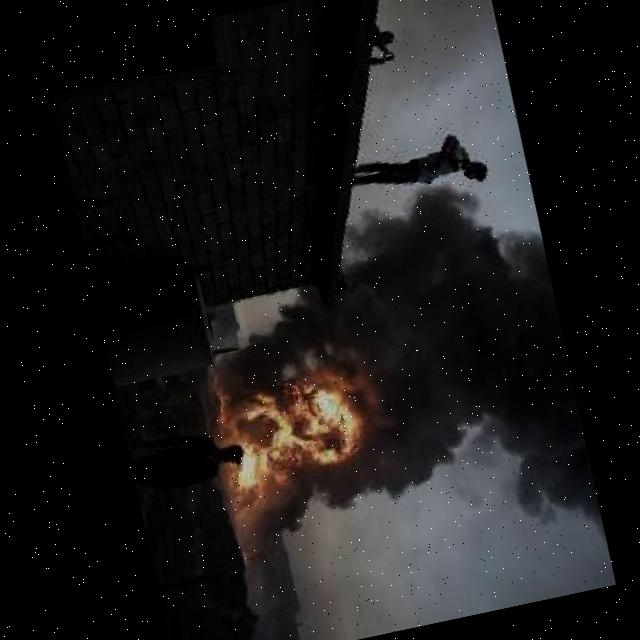fire: (208, 356, 392, 516)
